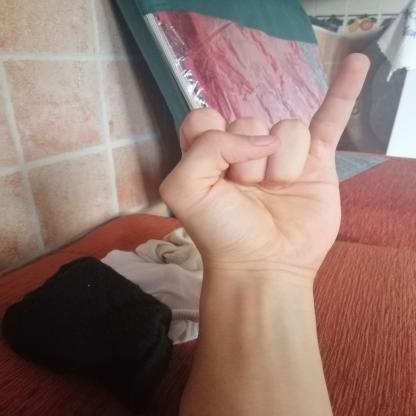MEEM: (150, 41, 386, 281)
